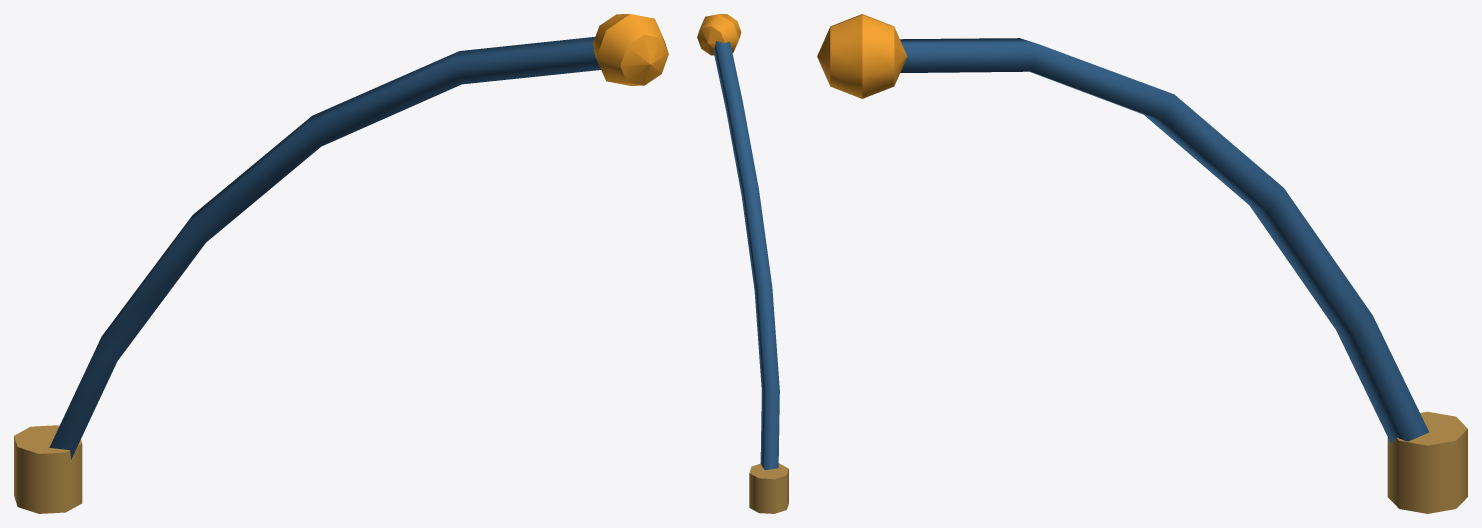
Rendered from rm2_antenna_l.obj.
3 renders of one model, left to right at view 1: azimuth 30°, elevation 25°; view 2: azimuth 150°, elevation 25°; view 3: azimuth 270°, elevation 25°, orthographic. The views are drawn at different scales.
Parts seen in each view (by area): view 1: rm2_antenna_l; view 2: rm2_antenna_l; view 3: rm2_antenna_l.
Boxes of the visible parts, x1,y1,x2,y2 form: rm2_antenna_l: (14, 14, 668, 513); rm2_antenna_l: (697, 14, 788, 513); rm2_antenna_l: (817, 14, 1467, 513).
Bounding box in the file's own units: 0.209 × 0.293 × 0.259.
